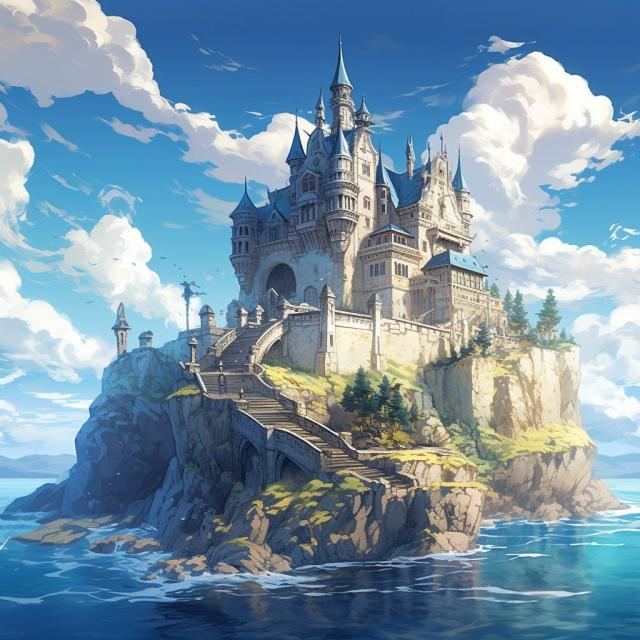castle: (67, 27, 579, 367)
